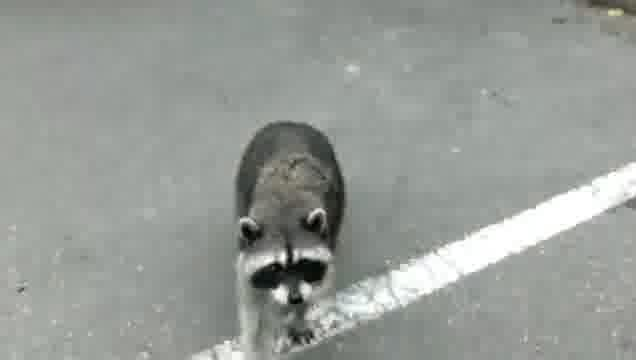raccoon: (230, 121, 345, 360)
